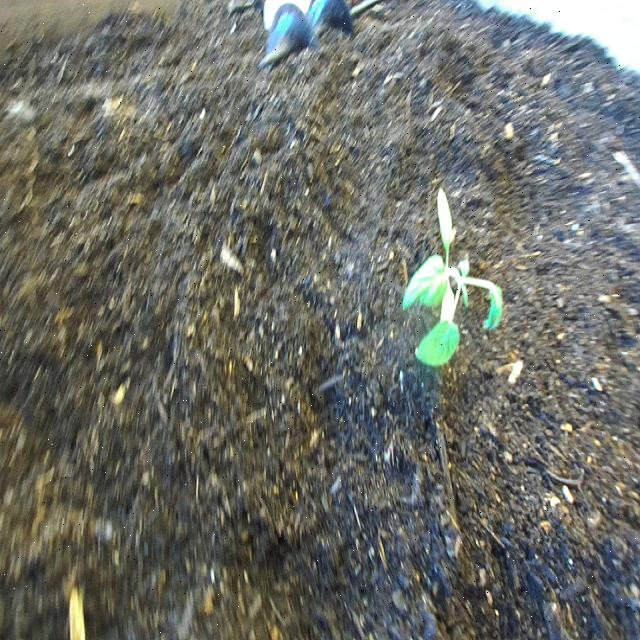Healthy: (398, 182, 510, 388)
